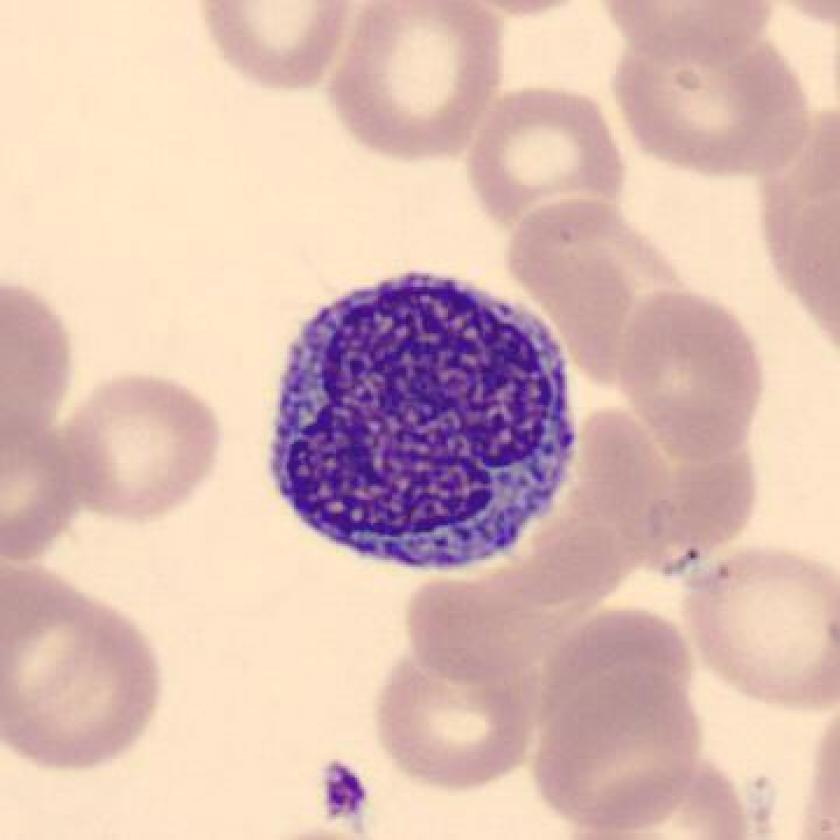monocyte: (255, 256, 596, 594)
